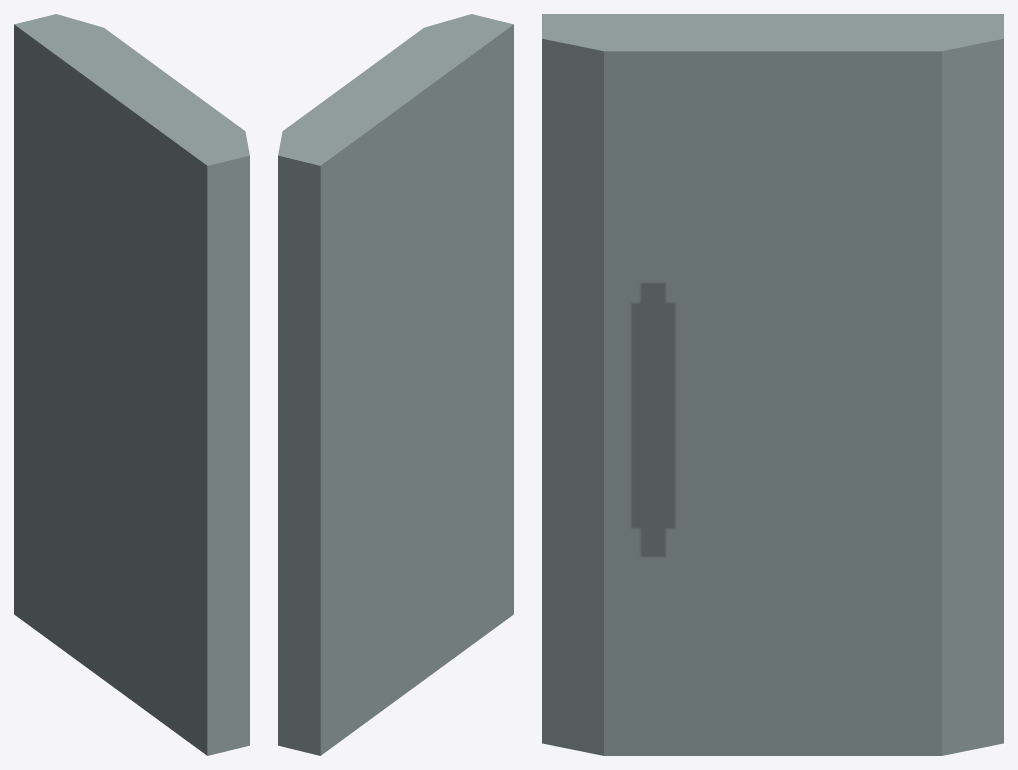
File: ganymedeDoor.obj
3 renders of one model, left to right at view 1: azimuth 30°, elevation 25°; view 2: azimuth 150°, elevation 25°; view 3: azimuth 270°, elevation 25°, orthographic. The views are drawn at different scales.
Parts seen in each view (by area): view 1: Cube.008; view 2: Cube.008; view 3: Cube.008.
Boxes of the visible parts, x1,y1,x2,y2 form: Cube.008: [14, 14, 249, 755]; Cube.008: [278, 14, 513, 755]; Cube.008: [542, 14, 1003, 755].
Size of the model in its own units: 0.3819 by 3.37 by 2.
Materials: 1 (1 with a texture image).
